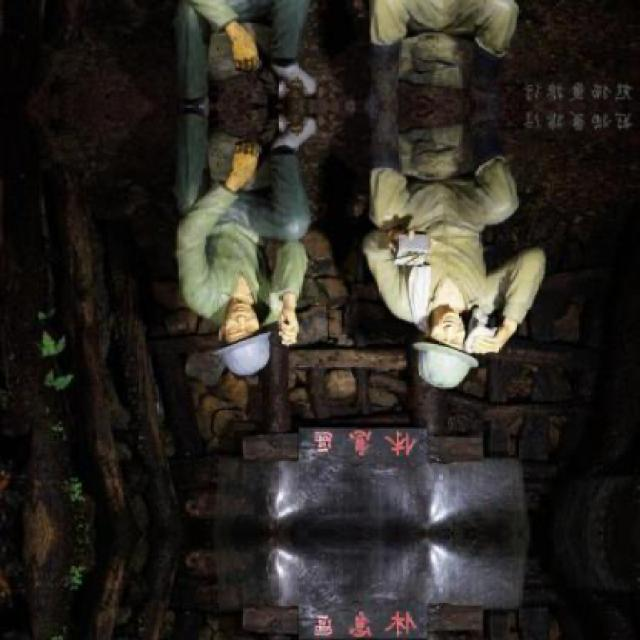con casco: (374, 285, 493, 416), (178, 289, 307, 391)
